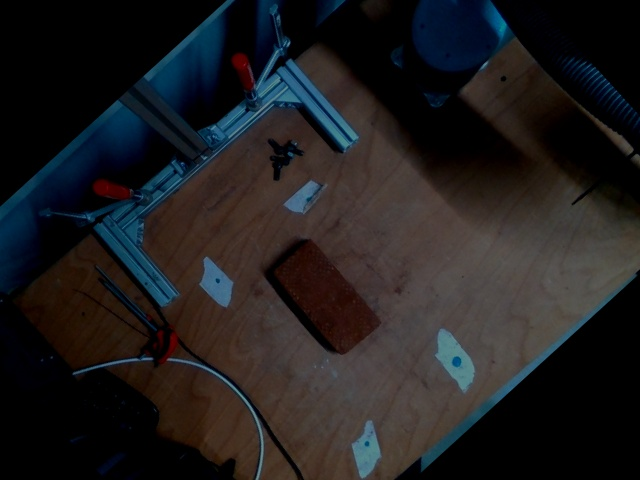brick: (272, 238, 382, 354)
